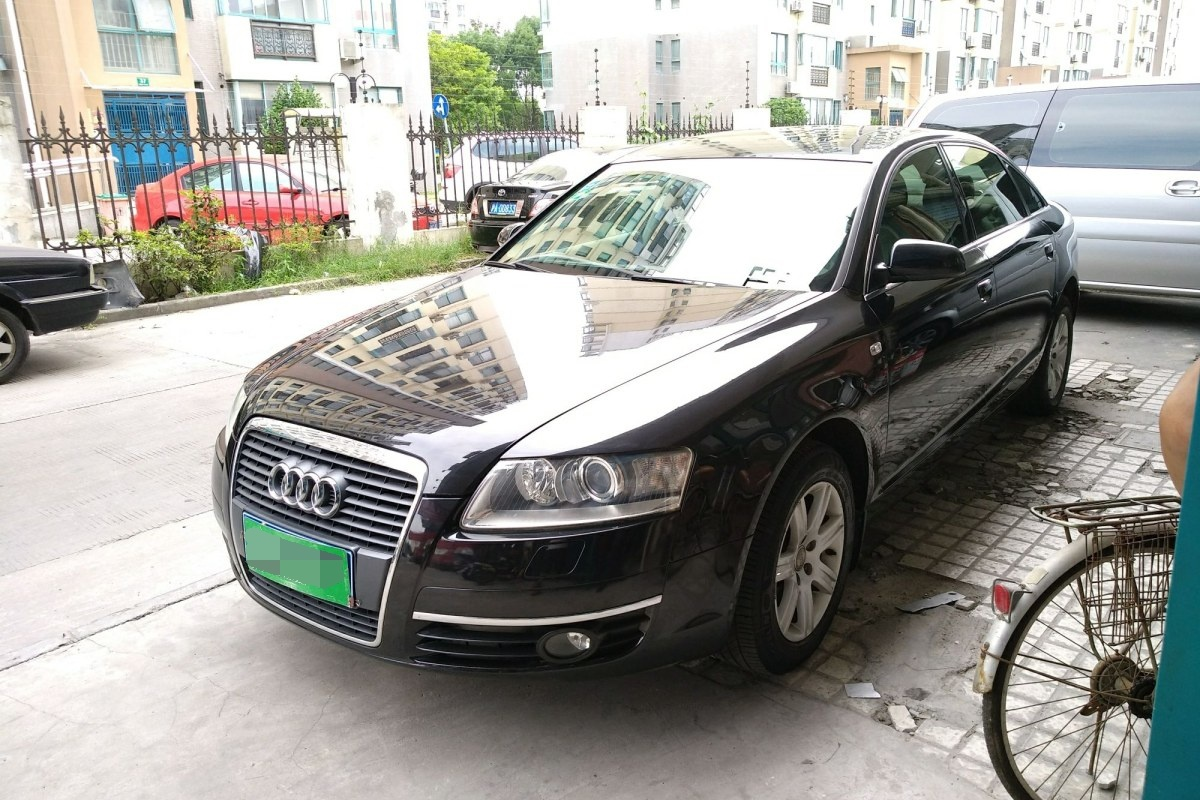family sedan: (214, 134, 1084, 650)
